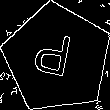P_S: (35, 30, 80, 87)
